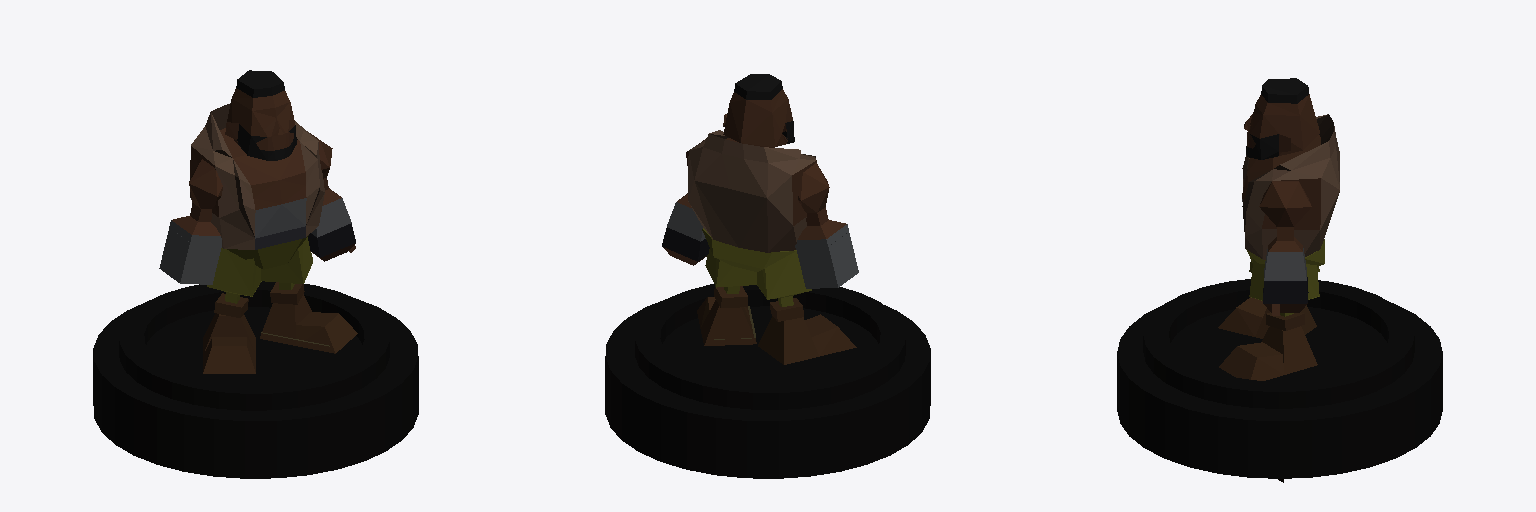
File: Barret.obj
The picture shows the model from 3 angles: view 1: azimuth 30°, elevation 25°; view 2: azimuth 150°, elevation 25°; view 3: azimuth 270°, elevation 25°; orthographic projection.
Visible parts, largest first — view 1: Cylinder, Converte_0_23_23_23, Converte_0_1E_1E_1E, Converte_0_4B_34_, Converte_0_4B_34_.001, Converte_0_5F_61_.001, Converte_0_65_65_.001_Converte_0_65_65_.002, Converte_0_55_38__Converte_0_55_38_28, Converte_0_65_65_, Converte_0_1F_1F_24, Converte_0_65_65_26, Converte_0_5F_61_64_Converte_0_5F_61_ (+4 smaller); view 2: Cylinder, Converte_0_23_23_23, Converte_0_1E_1E_1E, Converte_0_4B_34_.001, Converte_0_5F_61_.001, Converte_0_4B_34_, Converte_0_65_65_.001_Converte_0_65_65_.002, Converte_0_55_38__Converte_0_55_38_28, Converte_0_65_65_26, Converte_0_1F_1F_24, Converte_0_65_65_, Converte_0_5F_61__Converte_0_5F_61_64 (+3 smaller); view 3: Cylinder, Converte_0_23_23_23, Converte_0_1E_1E_1E, Converte_0_4B_34_, Converte_0_55_38_28_Converte_0_55_38_.001, Converte_0_5F_61_64_Converte_0_5F_61_, Converte_0_4B_34_.001, Converte_0_1F_1F_24, Converte_0_65_65_, Converte_0_4B_34_22.
Boxes of the visible parts, <box> form: Cylinder: <box>93,281,418,478</box>; Converte_0_23_23_23: <box>190,103,324,249</box>; Converte_0_1E_1E_1E: <box>225,70,296,160</box>; Converte_0_4B_34_: <box>260,294,357,353</box>; Converte_0_4B_34_.001: <box>203,313,255,373</box>; Converte_0_5F_61_.001: <box>159,228,221,284</box>; Converte_0_65_65_.001_Converte_0_65_65_.002: <box>207,248,260,296</box>; Converte_0_55_38__Converte_0_55_38_28: <box>189,159,222,221</box>; Converte_0_65_65_: <box>261,237,312,283</box>; Converte_0_1F_1F_24: <box>308,223,355,261</box>; Converte_0_65_65_26: <box>227,235,308,269</box>; Converte_0_5F_61_64_Converte_0_5F_61_: <box>312,188,351,237</box>; Cylinder: <box>605,284,930,478</box>; Converte_0_23_23_23: <box>688,130,816,252</box>; Converte_0_1E_1E_1E: <box>723,74,794,147</box>; Converte_0_4B_34_.001: <box>758,314,856,364</box>; Converte_0_5F_61_.001: <box>796,232,858,288</box>; Converte_0_4B_34_: <box>697,297,756,345</box>; Converte_0_65_65_.001_Converte_0_65_65_.002: <box>757,251,811,299</box>; Converte_0_55_38__Converte_0_55_38_28: <box>798,163,829,225</box>; Converte_0_65_65_26: <box>702,228,796,271</box>; Converte_0_1F_1F_24: <box>662,227,709,265</box>; Converte_0_65_65_: <box>705,249,756,287</box>; Converte_0_5F_61__Converte_0_5F_61_64: <box>795,220,848,247</box>; Cylinder: <box>1117,279,1442,478</box>; Converte_0_23_23_23: <box>1242,114,1339,259</box>; Converte_0_1E_1E_1E: <box>1244,78,1319,159</box>; Converte_0_4B_34_: <box>1219,326,1317,380</box>; Converte_0_55_38_28_Converte_0_55_38_.001: <box>1259,181,1311,240</box>; Converte_0_5F_61_64_Converte_0_5F_61_: <box>1264,237,1306,280</box>; Converte_0_4B_34_.001: <box>1218,297,1316,338</box>; Converte_0_1F_1F_24: <box>1263,277,1308,315</box>; Converte_0_65_65_: <box>1249,259,1319,300</box>; Converte_0_4B_34_22: <box>1251,296,1318,330</box>.
Size of the model in its own units: 2 by 2.35 by 2.